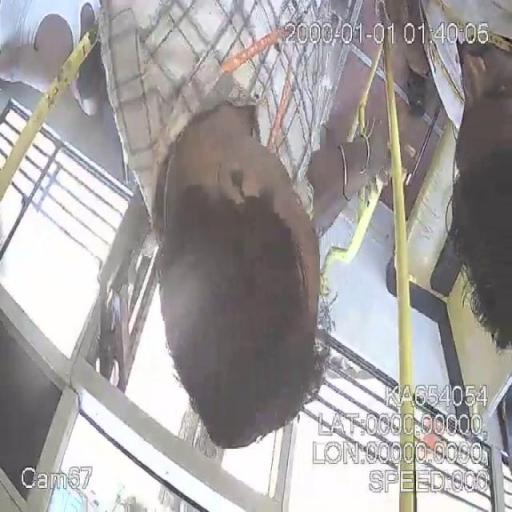persona: (87, 0, 346, 450), (393, 0, 512, 345)
